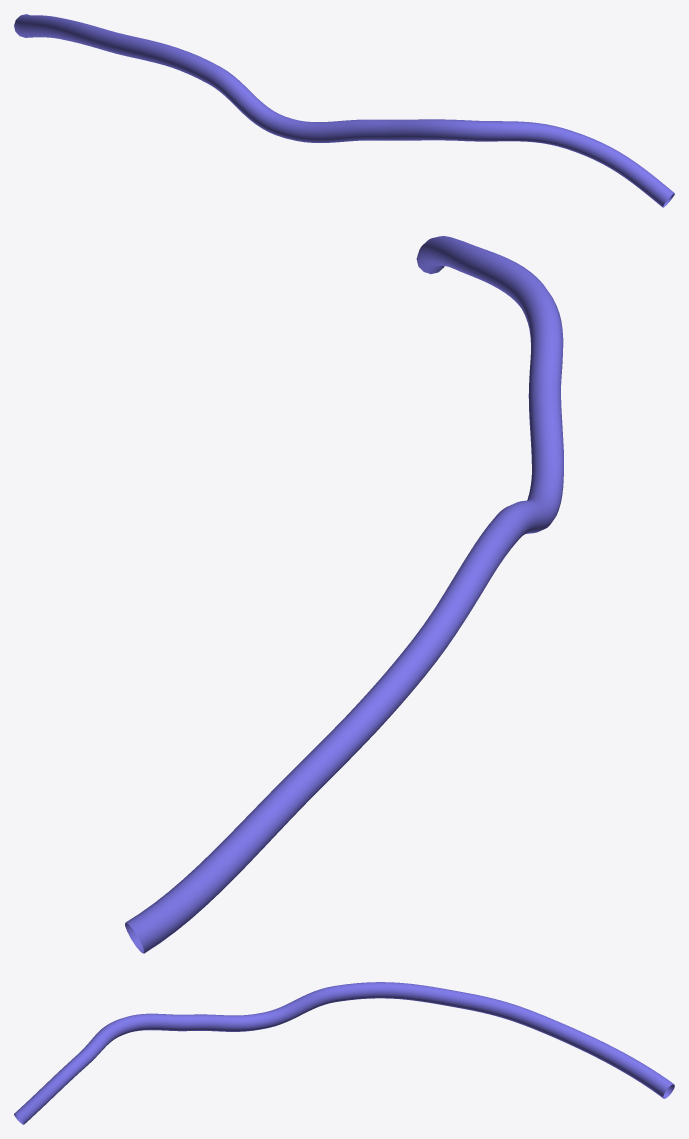
File: Dorsal_venous_arch_foot_right.glb
The picture shows the model from 3 angles, top to bottom: view 1: azimuth 30°, elevation 25°; view 2: azimuth 150°, elevation 25°; view 3: azimuth 270°, elevation 25°; orthographic projection. The views are drawn at different scales.
Parts seen in each view (by area): view 1: Dorsal_venous_arch_of_foot.r_BezierCurve.327; view 2: Dorsal_venous_arch_of_foot.r_BezierCurve.327; view 3: Dorsal_venous_arch_of_foot.r_BezierCurve.327.
Boxes of the visible parts, left/top/right/bottom form: Dorsal_venous_arch_of_foot.r_BezierCurve.327: left=14, top=14, right=674, bottom=207; Dorsal_venous_arch_of_foot.r_BezierCurve.327: left=125, top=236, right=563, bottom=953; Dorsal_venous_arch_of_foot.r_BezierCurve.327: left=14, top=982, right=674, bottom=1124.
Size of the model in its own units: 0.0317 by 0.0154 by 0.0798.
